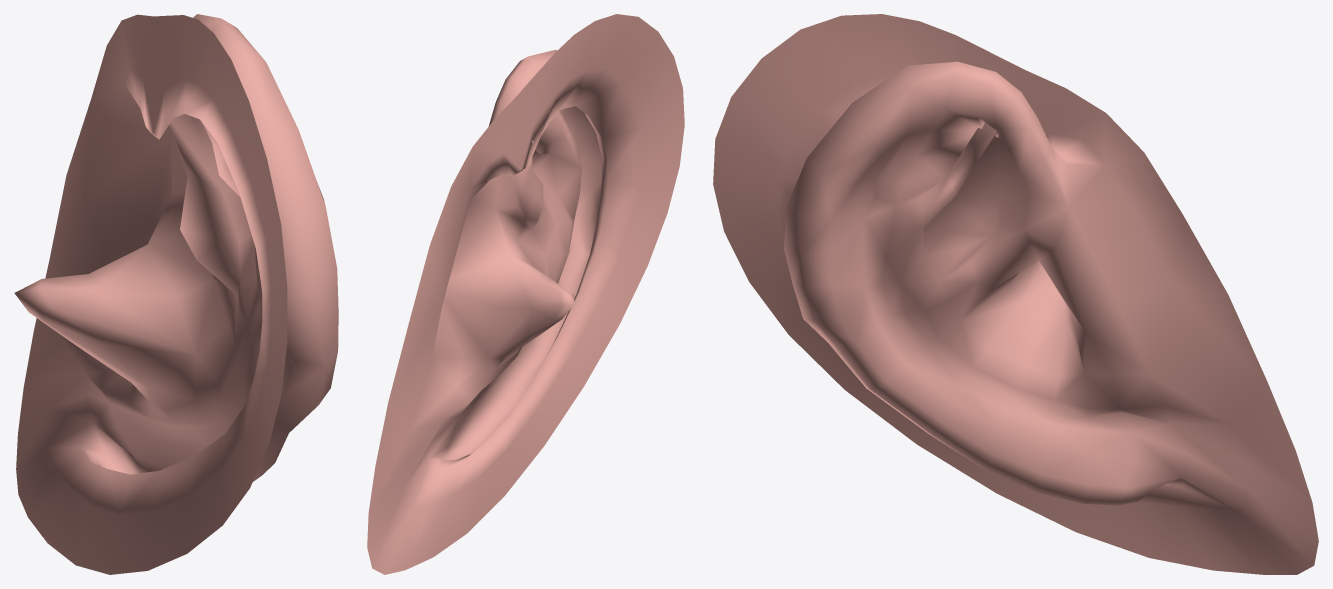
The model's file is Telinga.glb.
The picture shows the model from 3 angles, left to right: view 1: azimuth 30°, elevation 25°; view 2: azimuth 150°, elevation 25°; view 3: azimuth 270°, elevation 25°; orthographic projection. The views are drawn at different scales.
Parts seen in each view (by area): view 1: Ear; view 2: Ear; view 3: Ear.
Boxes of the visible parts, box(x1,y1,x2,y2) form: Ear: box(14, 14, 338, 574); Ear: box(367, 14, 684, 574); Ear: box(713, 14, 1318, 574).
Bounding box in the file's own units: 3.51 × 11.16 × 11.32.
